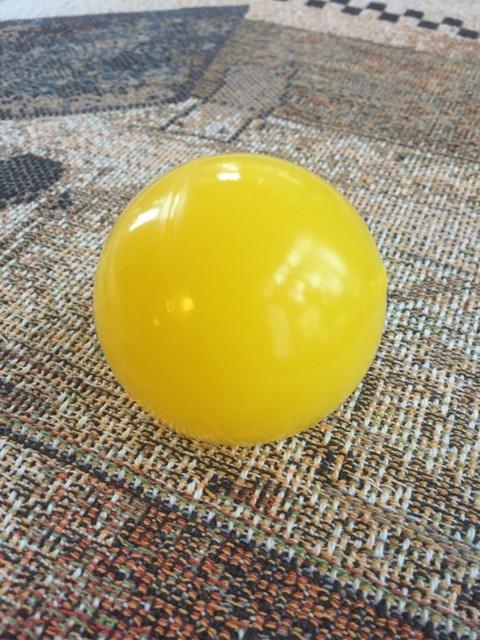ball: (93, 151, 386, 446)
